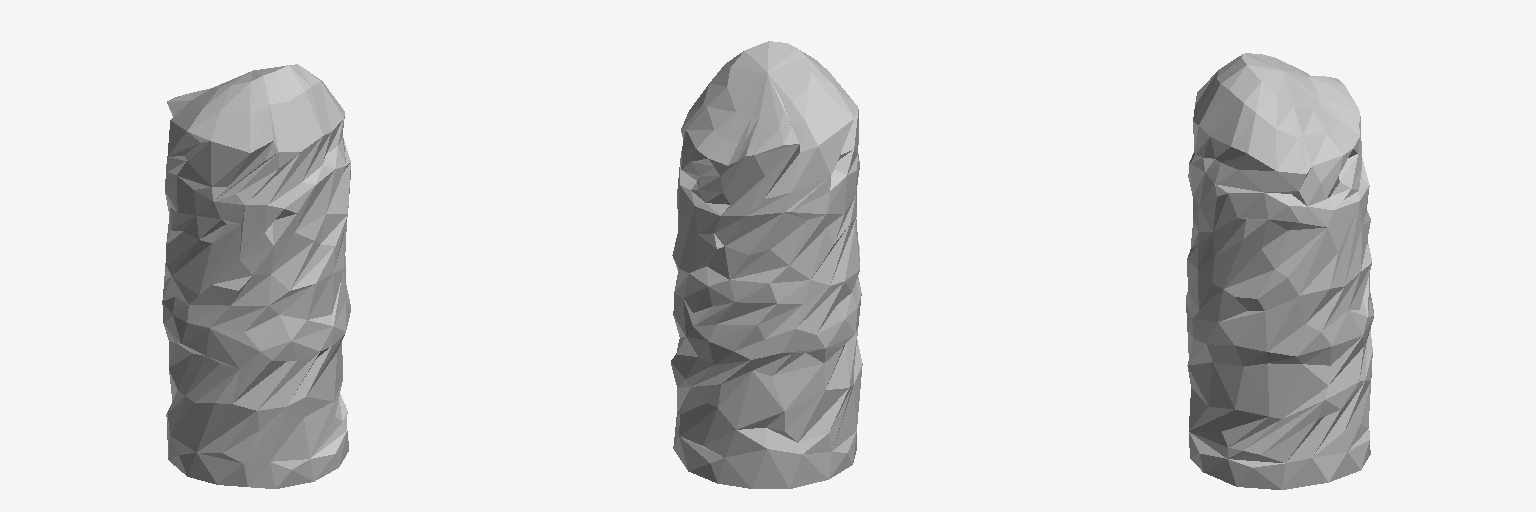
Rendered from Pillar Bottom.obj.
The picture shows the model from 3 angles: view 1: azimuth 30°, elevation 25°; view 2: azimuth 150°, elevation 25°; view 3: azimuth 270°, elevation 25°; orthographic projection.
Parts seen in each view (by area): view 1: SM_Cave_Rock_PillarBottom; view 2: SM_Cave_Rock_PillarBottom; view 3: SM_Cave_Rock_PillarBottom.
Boxes of the visible parts, <box> form: SM_Cave_Rock_PillarBottom: <box>162,64,350,488</box>; SM_Cave_Rock_PillarBottom: <box>671,41,862,488</box>; SM_Cave_Rock_PillarBottom: <box>1186,53,1373,489</box>.
Bounding box in the file's own units: 282 × 662 × 284.